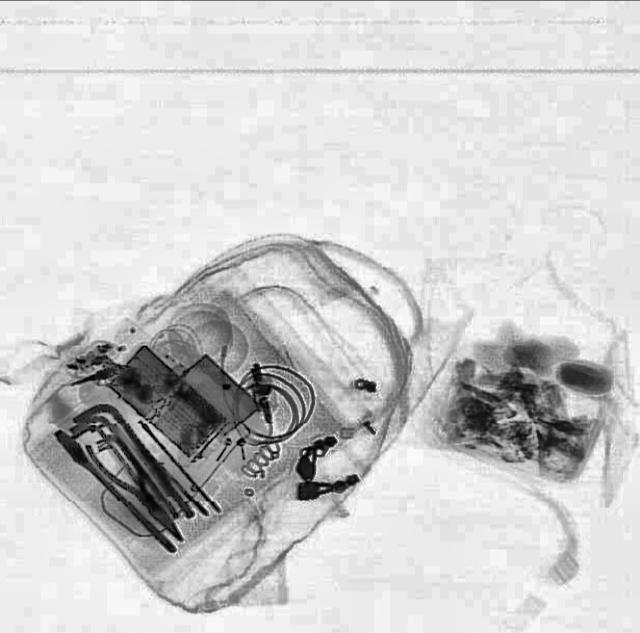Pliers: (82, 426, 200, 552)
